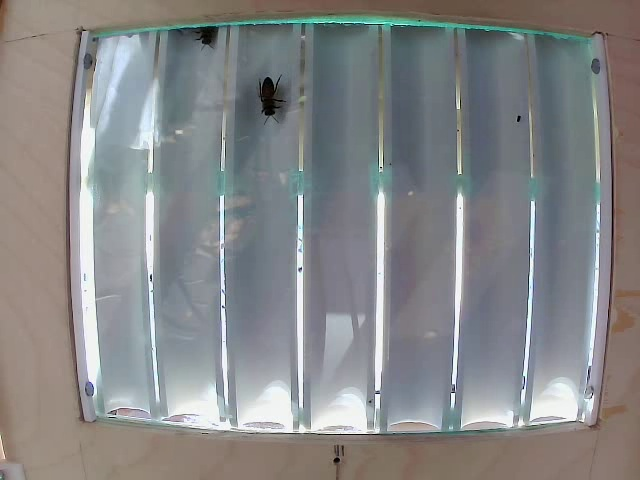bee: (253, 89, 282, 130)
